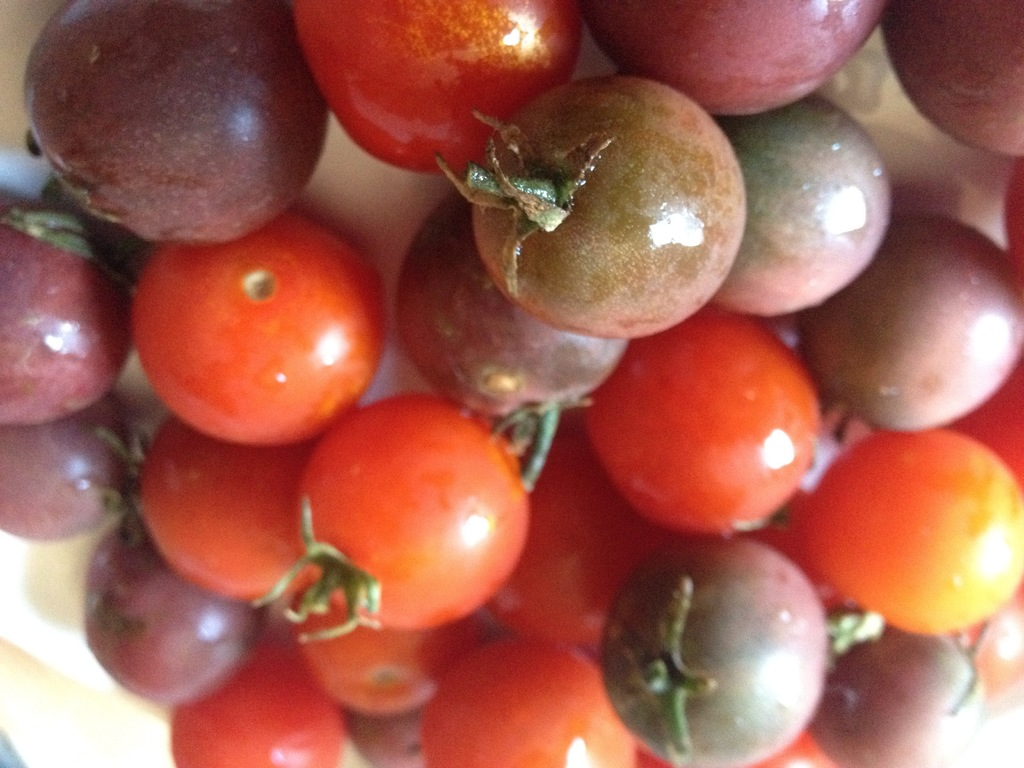Tomato: (0, 0, 1023, 767), (288, 396, 533, 641), (576, 300, 824, 537)
